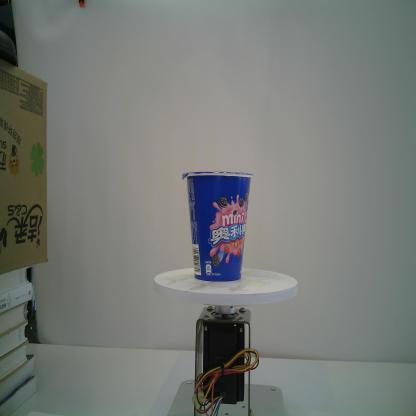Dessert: (182, 170, 255, 282)
